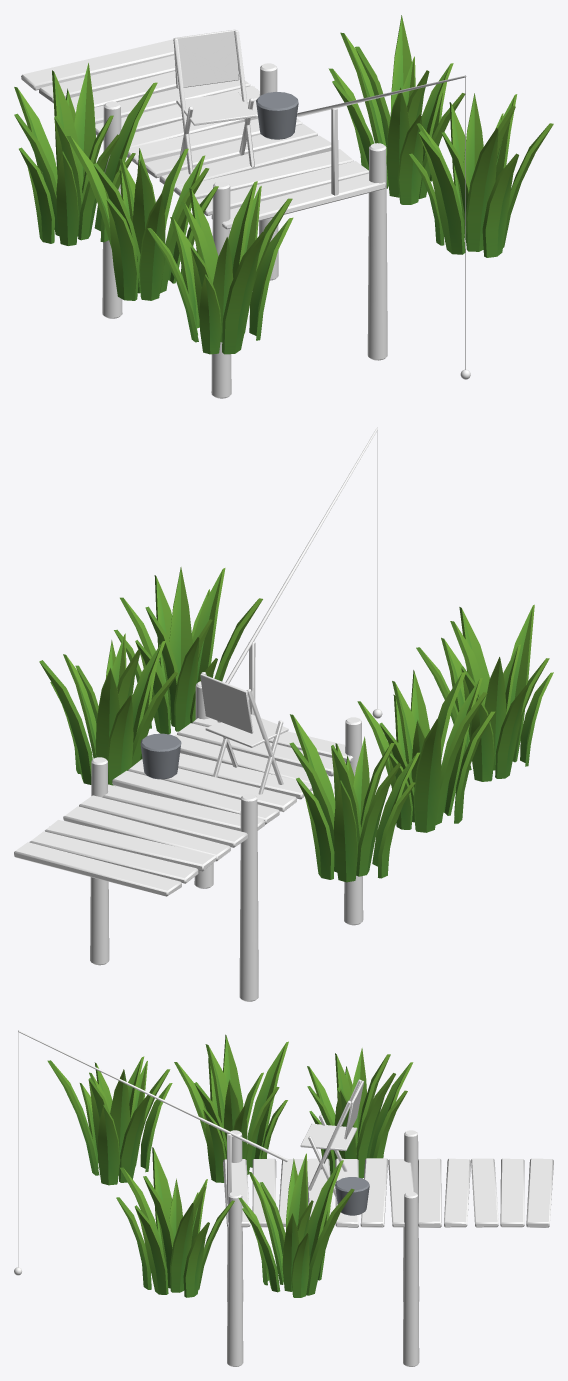
File: angelplatz.glb
The picture shows the model from 3 angles, top to bottom: view 1: azimuth 30°, elevation 25°; view 2: azimuth 150°, elevation 25°; view 3: azimuth 270°, elevation 25°; orthographic projection. The views are drawn at different scales.
Parts seen in each view (by area): view 1: angelplatz_netz, Grass_2_C_Color12_netz; view 2: angelplatz_netz, Grass_2_C_Color12_netz; view 3: angelplatz_netz, Grass_2_C_Color12_netz.
Part boxes in pixels (bbox=[...]): angelplatz_netz: bbox=[21, 15, 553, 398]; Grass_2_C_Color12_netz: bbox=[14, 63, 157, 245]; angelplatz_netz: bbox=[14, 427, 553, 1001]; Grass_2_C_Color12_netz: bbox=[289, 714, 419, 882]; angelplatz_netz: bbox=[14, 1030, 553, 1366]; Grass_2_C_Color12_netz: bbox=[307, 1048, 413, 1178].
Size of what is drawn, in the model's own units: 3.22 by 2.97 by 4.6.
Materials: 9 (1 with a texture image).
